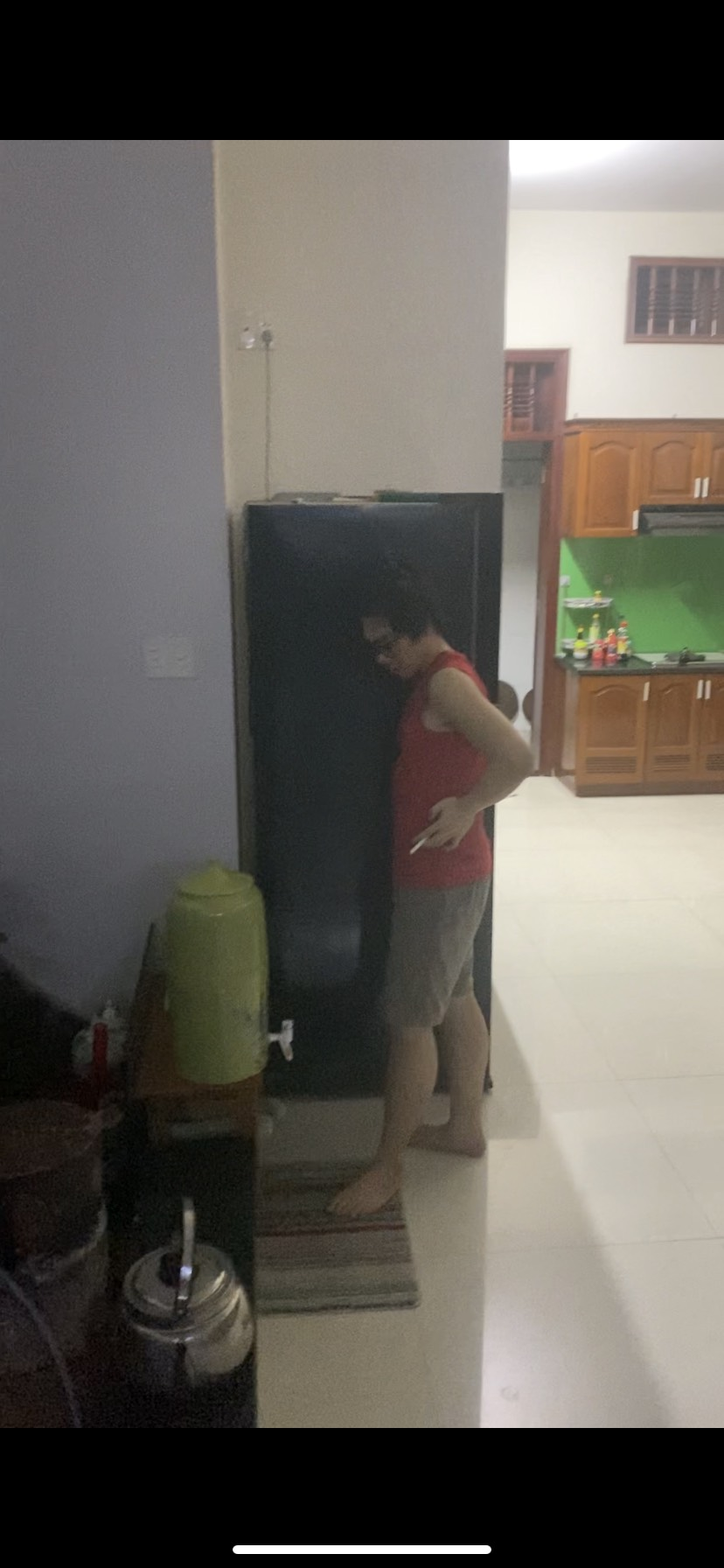cigarette: (406, 841, 426, 857)
person: (345, 611, 537, 1229)
